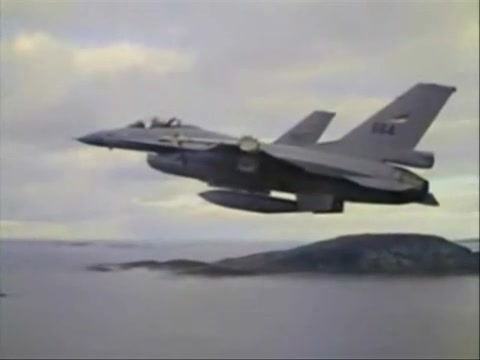aeroplane: (76, 81, 458, 215)
